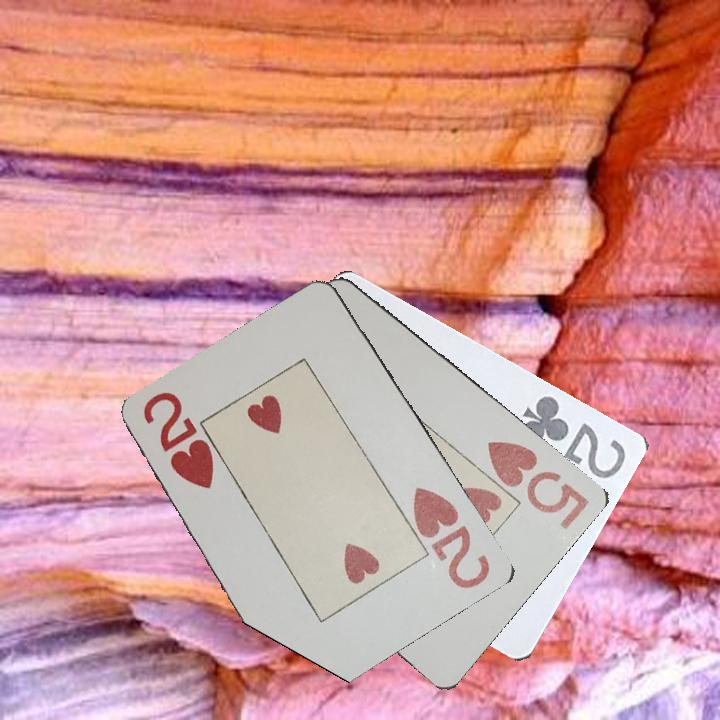2c: (517, 391, 630, 482)
2h: (408, 483, 494, 592), (140, 388, 218, 493)
5h: (484, 437, 593, 533)
